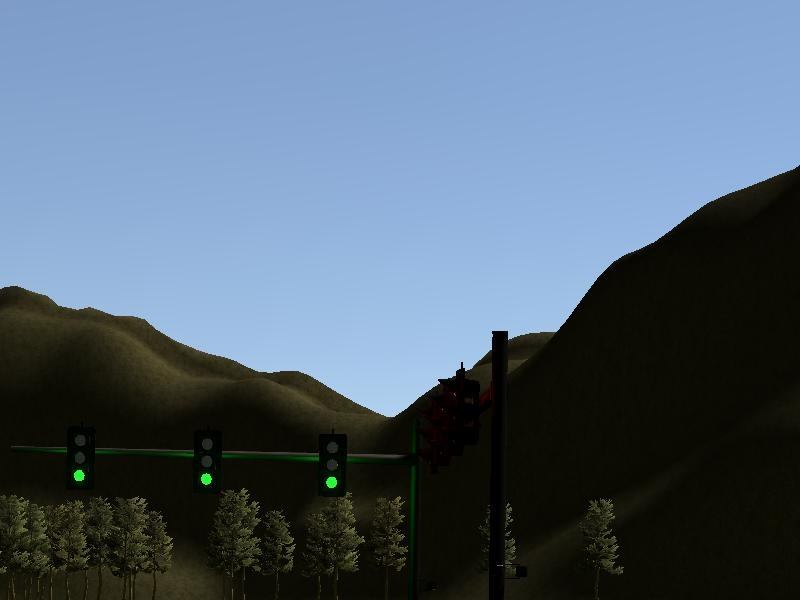Green: (192, 428, 223, 496), (317, 432, 348, 498), (65, 424, 95, 491)
